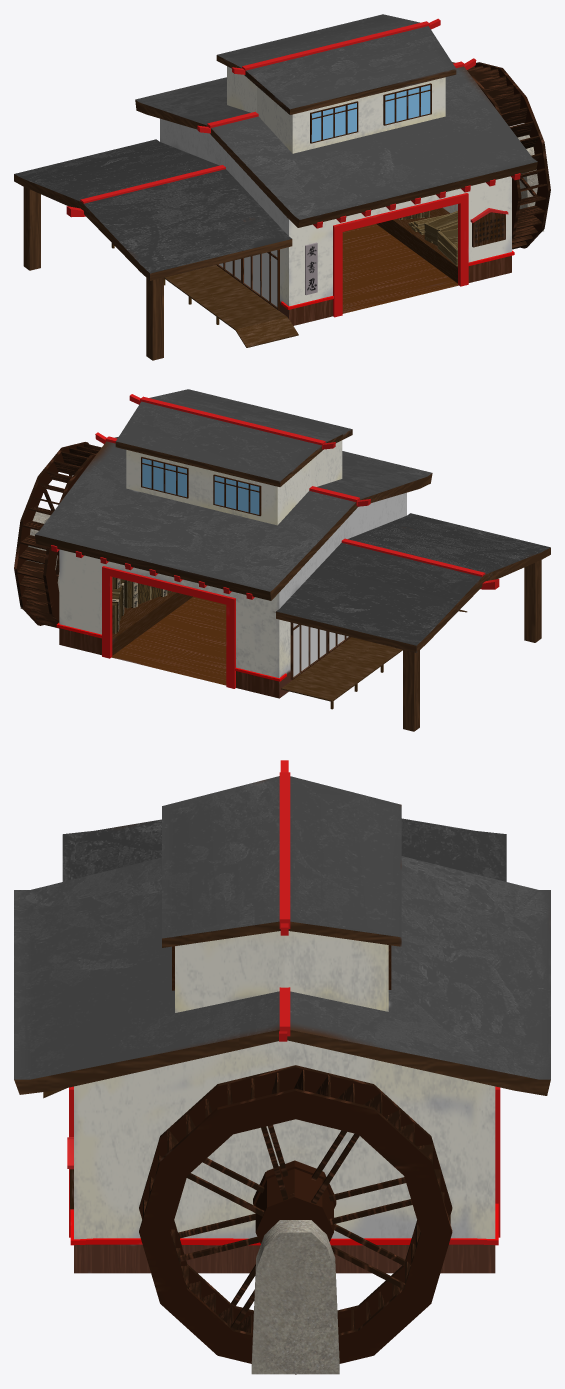
The model's file is WatermillV2.fbx.
3 views of the same model, one above another, from view 1: azimuth 30°, elevation 25°; view 2: azimuth 150°, elevation 25°; view 3: azimuth 270°, elevation 25° (orthographic). The views are drawn at different scales.
Parts seen in each view (by area): view 1: House1, WaterMill, OutdoorFlooring, InteriorStage3, JapaneseDoor3, JapaneseWindow8, JapaneseWindow4, EntranceWriting2, HigherRoofStringer, HigherRoofStringer1, EntranceWriting, WoodenCrate8 (+3 smaller); view 2: House1, WaterMill, OutdoorFlooring, InteriorStage3, JapaneseDoor7, JapaneseWindow10, JapaneseWindow9, HigherRoofStringer, HigherRoofStringer1, WoodenCrate4, WoodenCrate2, ExitRoofBeams; view 3: House1, WaterMill, Holder1, HigherRoofStringer.
Part boxes in pixels (bbox=[...]): House1: bbox=[14, 14, 537, 360]; WaterMill: bbox=[467, 62, 550, 249]; OutdoorFlooring: bbox=[164, 265, 298, 347]; InteriorStage3: bbox=[376, 207, 457, 283]; JapaneseDoor3: bbox=[242, 249, 279, 309]; JapaneseWindow8: bbox=[383, 83, 431, 125]; JapaneseWindow4: bbox=[310, 101, 358, 143]; EntranceWriting2: bbox=[470, 208, 508, 247]; HigherRoofStringer: bbox=[242, 21, 429, 74]; HigherRoofStringer1: bbox=[80, 165, 225, 203]; EntranceWriting: bbox=[305, 242, 317, 295]; WoodenCrate8: bbox=[424, 210, 457, 245]; House1: bbox=[35, 389, 550, 731]; WaterMill: bbox=[14, 442, 101, 628]; OutdoorFlooring: bbox=[281, 609, 467, 701]; InteriorStage3: bbox=[112, 591, 192, 655]; JapaneseDoor7: bbox=[290, 622, 327, 679]; JapaneseWindow10: bbox=[213, 474, 261, 516]; JapaneseWindow9: bbox=[141, 457, 188, 498]; HigherRoofStringer: bbox=[140, 396, 325, 449]; HigherRoofStringer1: bbox=[341, 538, 485, 576]; WoodenCrate4: bbox=[123, 580, 171, 608]; WoodenCrate2: bbox=[112, 582, 124, 633]; ExitRoofBeams: bbox=[51, 545, 254, 599]; House1: bbox=[14, 776, 550, 1273]; WaterMill: bbox=[139, 1065, 452, 1374]; Holder1: bbox=[251, 1220, 339, 1374]; HigherRoofStringer: bbox=[279, 772, 290, 928].
Size of the model in its own units: 47.82 by 23.86 by 29.28.
Materials: 26 (26 with a texture image).
